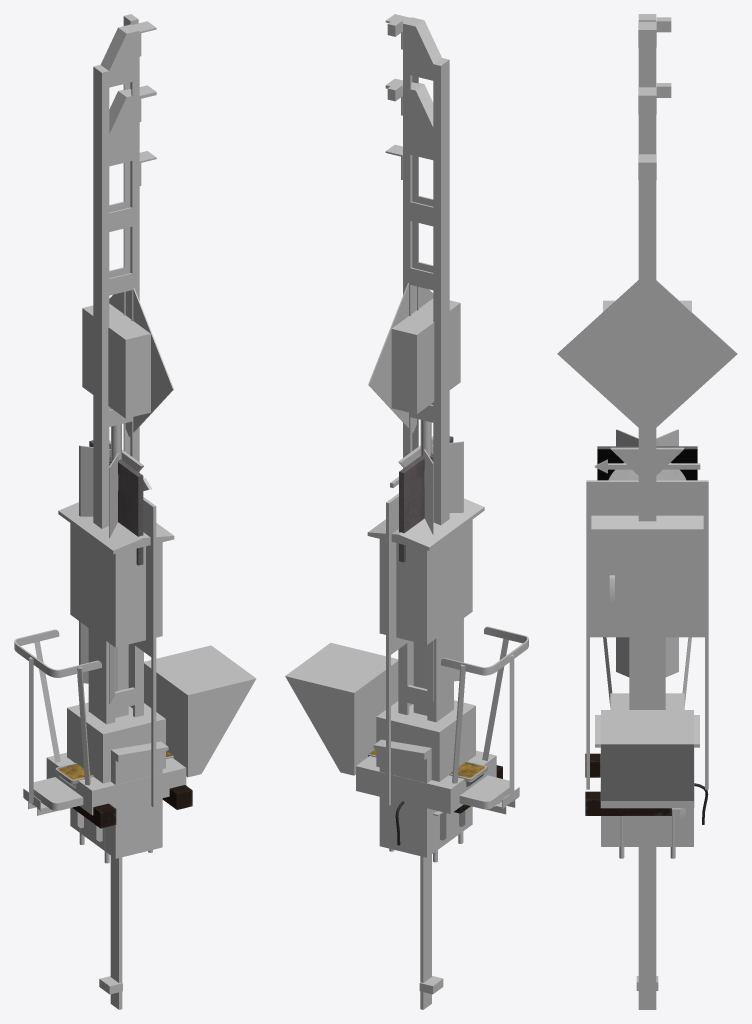
Rendered from signals_Misc_PRE-Release.fbx.
The picture shows the model from 3 angles, left to right: view 1: azimuth 30°, elevation 25°; view 2: azimuth 150°, elevation 25°; view 3: azimuth 270°, elevation 25°; orthographic projection. The views are drawn at different scales.
Parts seen in each view (by area): view 1: Signal_Post_L42_LP_LOD0, Telephone_LP_LOD0, Signal_Cube_LOD0, Turntable_Signal_LOD0, Signal_Post_L46_LP_LOD0, Box_CC90_LOD0, Signal_Basket_LP_LOD0, Concrete_Fnd_M_LP_LOD0, Concrete_Fnd_B_LP_LOD0, ShuntingStop_Ref_LOD0, Distant_Signal_Plate_LOD0, Signal_Post_BLACK_LOD0 (+4 smaller); view 2: Signal_Post_L42_LP_LOD0, Telephone_LP_LOD0, Signal_Cube_LOD0, Turntable_Signal_LOD0, Signal_Post_L46_LP_LOD0, Box_CC90_LOD0, Signal_Basket_LP_LOD0, Concrete_Fnd_B_LP_LOD0, Concrete_Fnd_M_LP_LOD0, ShuntingStop_Ref_LOD0, Distant_Signal_Plate_LOD0, Signal_Post_BLACK_LOD0 (+4 smaller); view 3: Turntable_Signal_LOD0, Signal_Post_L42_LP_LOD0, Telephone_LP_LOD0, Distant_Signal_Plate_LOD0, Distant_Signal_PlateSM_LOD0, Signal_Cube_Glass_LOD0, Signal_Cube_LOD0, Box_CC90_LOD0, Signal_Post_BLACK_LOD0, Signal_Post_L46_LP_LOD0, BufferStop_Ref_LOD0, ShuntingStop_Ref_LOD0 (+6 smaller).
Boxes of the visible parts, box(x1,y1,x2,y2) form: Signal_Post_L42_LP_LOD0: box(88, 85, 156, 724); Telephone_LP_LOD0: box(58, 502, 174, 717); Signal_Cube_LOD0: box(144, 645, 256, 777); Turntable_Signal_LOD0: box(82, 288, 173, 460); Signal_Post_L46_LP_LOD0: box(93, 14, 156, 286); Box_CC90_LOD0: box(70, 741, 168, 858); Signal_Basket_LP_LOD0: box(14, 629, 101, 815); Concrete_Fnd_M_LP_LOD0: box(67, 702, 165, 783); Concrete_Fnd_B_LP_LOD0: box(46, 752, 186, 815); ShuntingStop_Ref_LOD0: box(79, 445, 118, 704); Distant_Signal_Plate_LOD0: box(132, 507, 156, 807); Signal_Post_BLACK_LOD0: box(99, 856, 122, 1009); Signal_Post_L42_LP_LOD0: box(385, 78, 453, 722); Telephone_LP_LOD0: box(367, 498, 484, 715); Signal_Cube_LOD0: box(285, 643, 398, 775); Turntable_Signal_LOD0: box(368, 283, 460, 456); Signal_Post_L46_LP_LOD0: box(385, 14, 449, 281); Box_CC90_LOD0: box(373, 739, 472, 857); Signal_Basket_LP_LOD0: box(441, 626, 528, 814); Concrete_Fnd_B_LP_LOD0: box(356, 750, 496, 813); Concrete_Fnd_M_LP_LOD0: box(376, 700, 475, 781); ShuntingStop_Ref_LOD0: box(423, 441, 463, 701); Distant_Signal_Plate_LOD0: box(386, 508, 409, 805); Signal_Post_BLACK_LOD0: box(419, 854, 443, 1009); Turntable_Signal_LOD0: box(557, 280, 737, 427); Signal_Post_L42_LP_LOD0: box(629, 83, 671, 709); Telephone_LP_LOD0: box(591, 515, 703, 630); Distant_Signal_Plate_LOD0: box(586, 483, 708, 789); Distant_Signal_PlateSM_LOD0: box(586, 480, 708, 637); Signal_Cube_Glass_LOD0: box(605, 746, 689, 798); Signal_Cube_LOD0: box(601, 710, 693, 802); Box_CC90_LOD0: box(595, 715, 699, 846); Signal_Post_BLACK_LOD0: box(636, 847, 658, 1009); Signal_Post_L46_LP_LOD0: box(638, 14, 671, 275); BufferStop_Ref_LOD0: box(597, 446, 697, 480); ShuntingStop_Ref_LOD0: box(616, 429, 678, 677).
Size of what is drawn, in the model's own units: 131 by 595 by 97.07.
